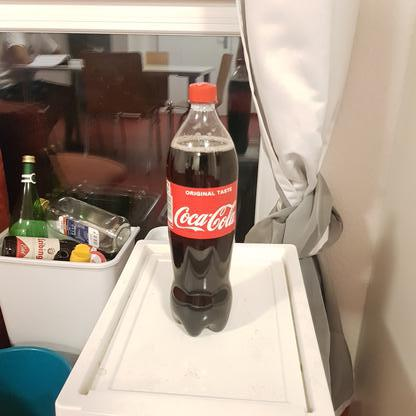coca-cola: (163, 81, 240, 337)
